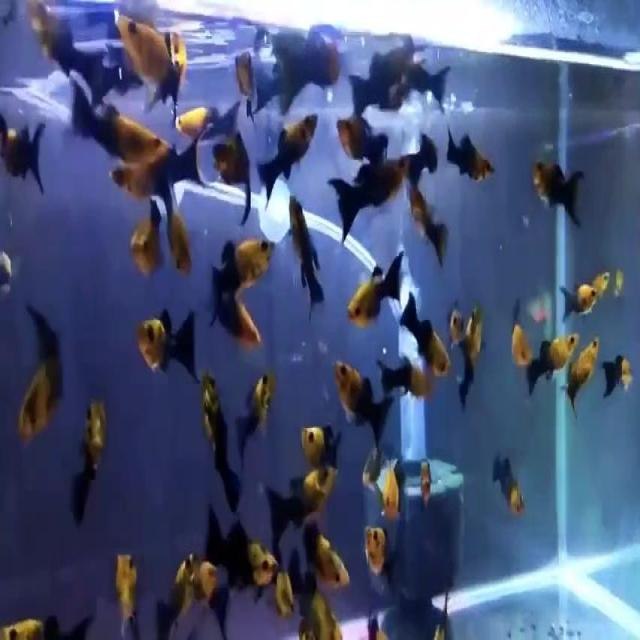PlatyFish: (113, 7, 187, 142), (196, 221, 281, 335), (325, 351, 398, 464), (248, 101, 324, 208), (341, 238, 407, 342), (526, 151, 595, 233), (522, 321, 583, 406)
